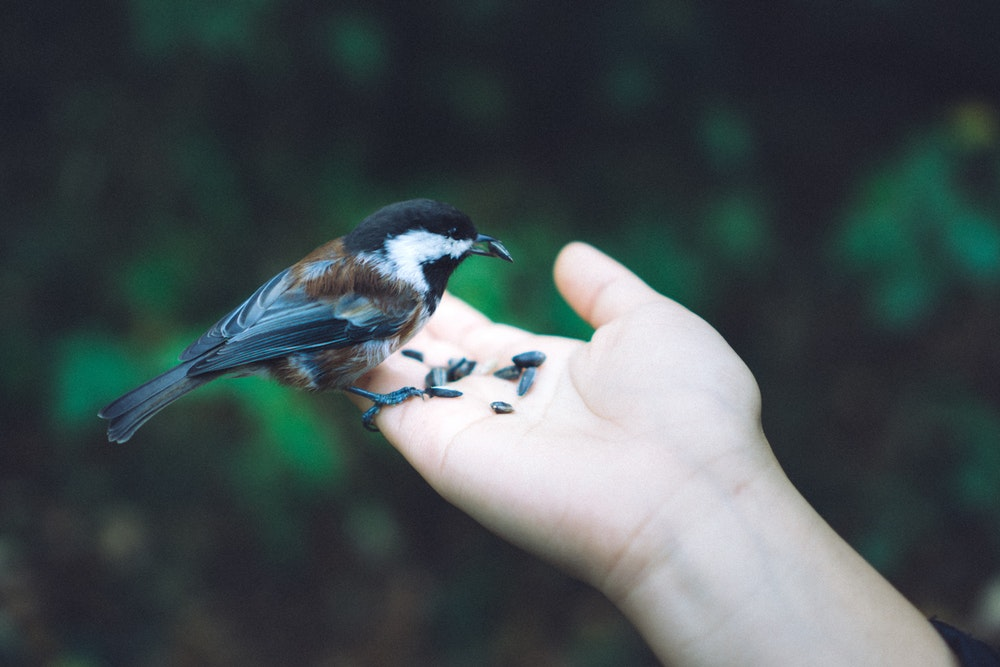palm: (430, 307, 696, 534)
